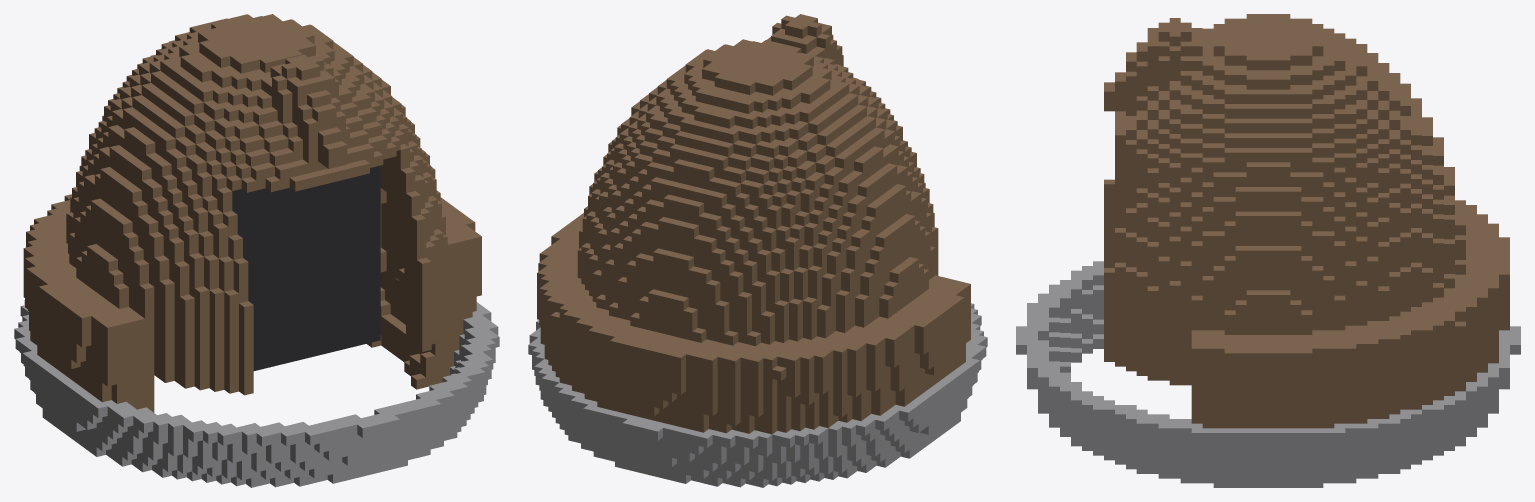
Rendered from cloth_uncommon_helmet.glb.
3 views of the same model, side by side, from view 1: azimuth 30°, elevation 25°; view 2: azimuth 150°, elevation 25°; view 3: azimuth 270°, elevation 25° (orthographic). The views are drawn at different scales.
Parts seen in each view (by area): view 1: cloth_uncommon_helmet; view 2: cloth_uncommon_helmet; view 3: cloth_uncommon_helmet.
Boxes of the visible parts, bbox=[...] form: cloth_uncommon_helmet: bbox=[14, 14, 499, 487]; cloth_uncommon_helmet: bbox=[528, 14, 987, 487]; cloth_uncommon_helmet: bbox=[1016, 14, 1520, 487].
Bounding box in the file's own units: 0.504 × 0.444 × 0.552.
